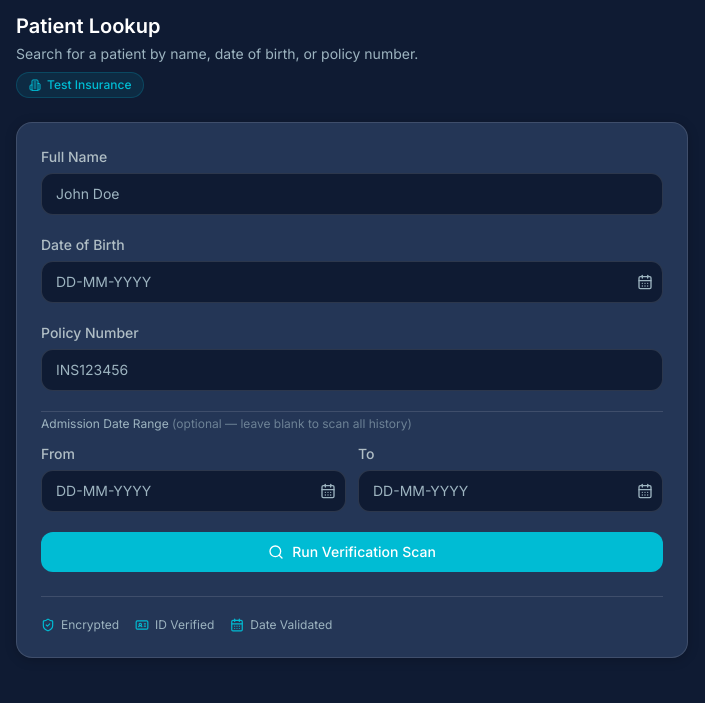
PatientLookup › shows loading state during submission
Type "Test" into the field with placeholder "John Doe" at (352, 194), box [41,173,663,215]
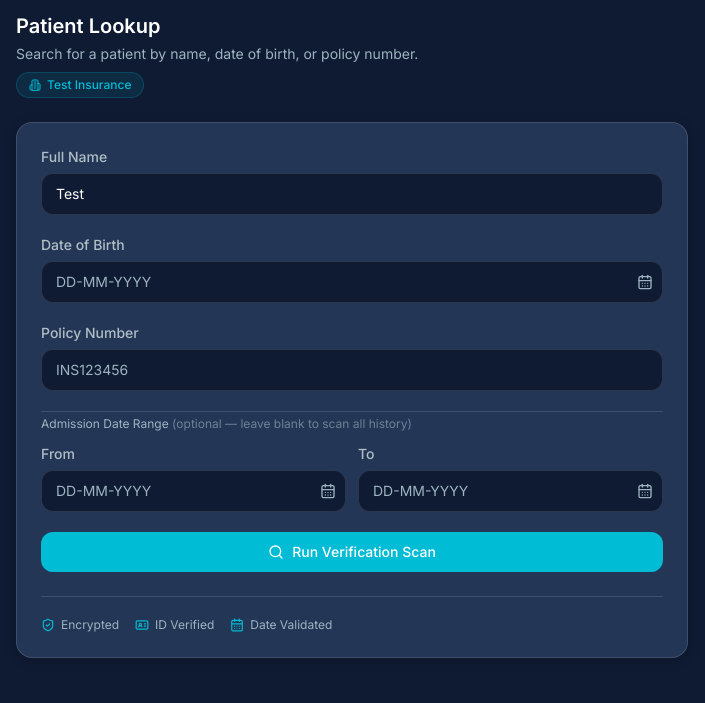
Type "INS123" into the field with placeholder "INS123456" at (352, 370), box [41,349,663,391]
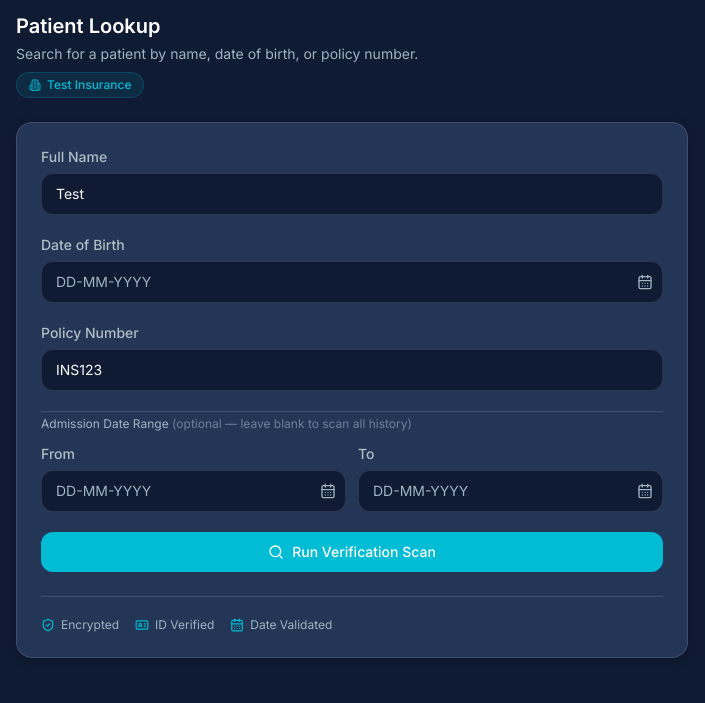
Type "15012000" into the field labelled "Date of Birth" at (352, 282), box [41,261,663,303]
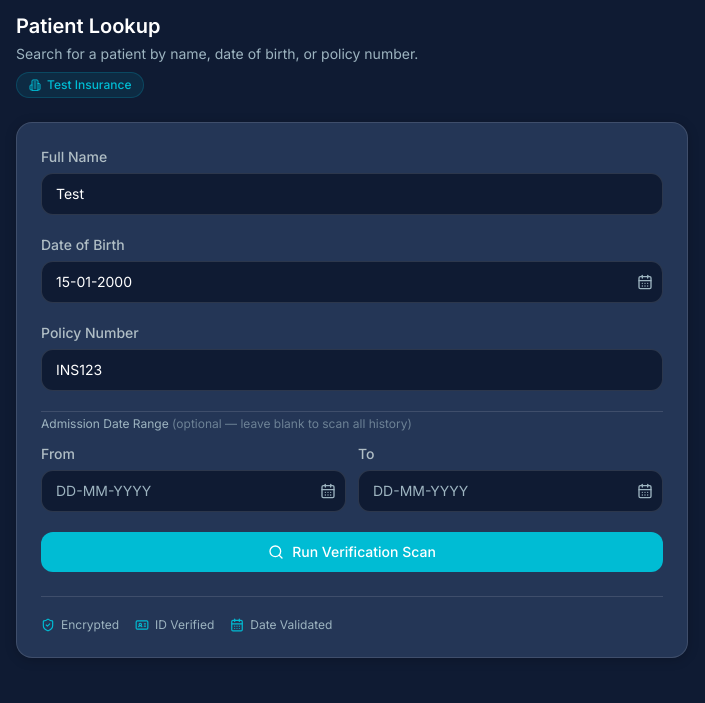
Submit the text "Run Verification Scan", box [41,147,663,572]
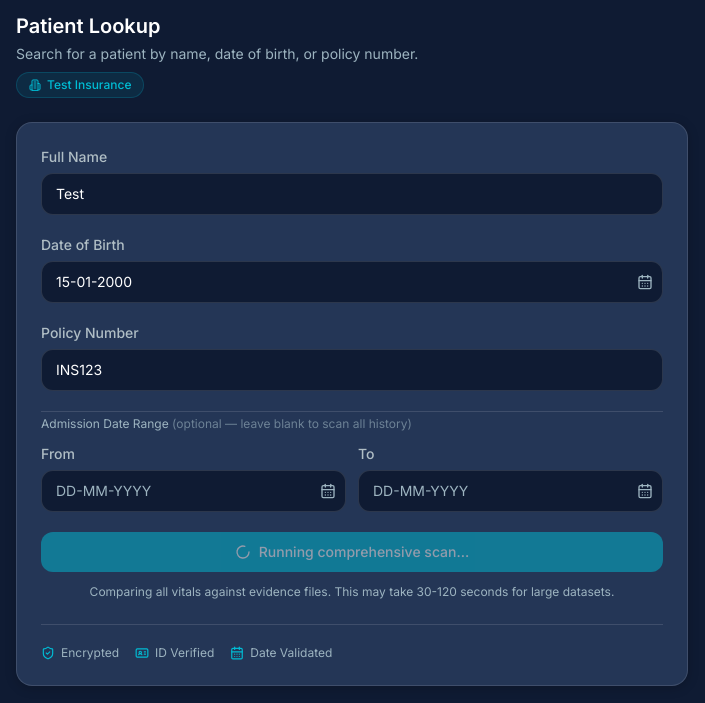
Expected: the button "Running comprehensive scan..." is shown, [41,532,663,572]
